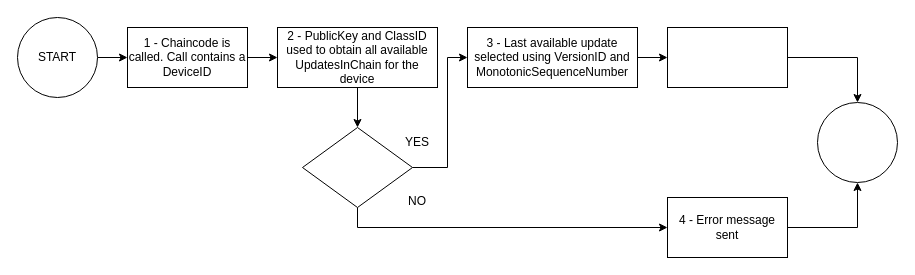
Image size: 915x275. Some labels were removed from this diagram. The centre of each missing label's shape, as x and y in pixels:
"4 - Last UpdateInChain sent" goes at point (727, 57).
"END" goes at point (857, 142).
"UpdateInChain Exists?" goes at point (357, 167).
